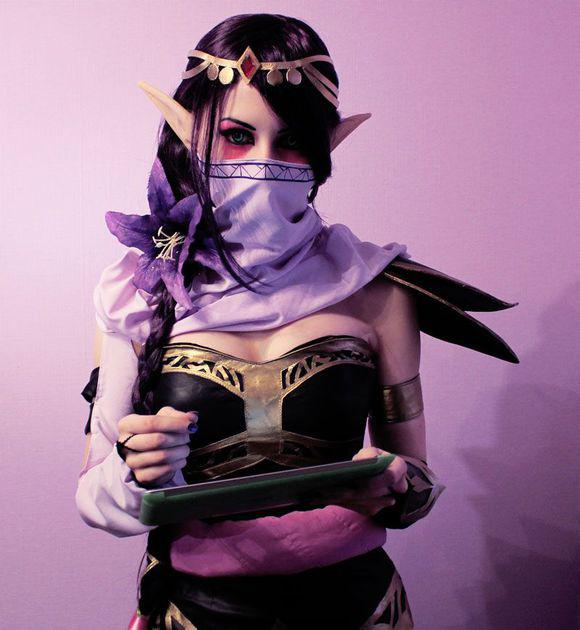OK: (205, 114, 320, 229)
